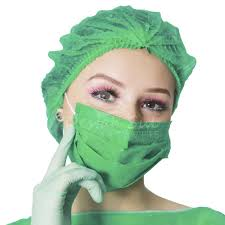with_mask_and_cap: (64, 11, 176, 188)
